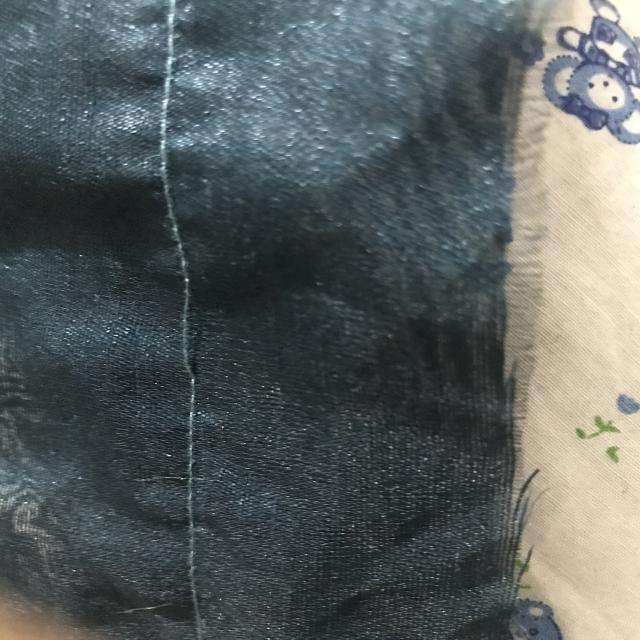good: (174, 422, 213, 462)
skip: (156, 270, 230, 404)
